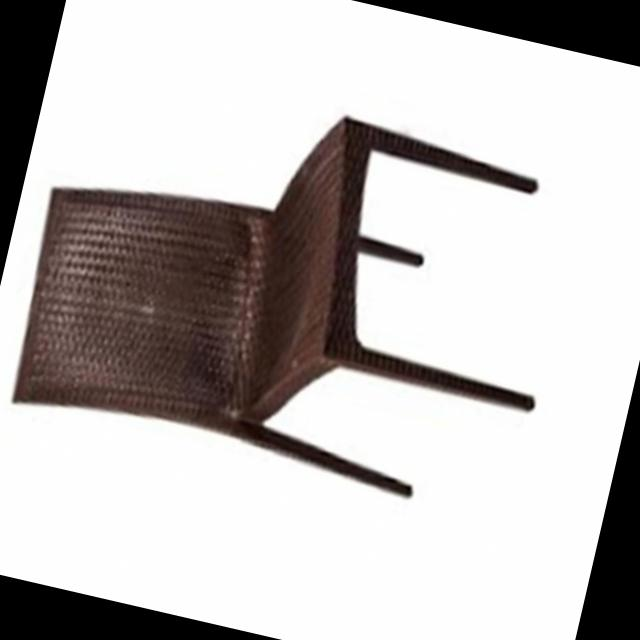Chair: (0, 45, 591, 525)
